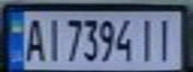3: (78, 16, 100, 62)
4: (115, 16, 139, 63)
7: (60, 16, 84, 62)
9: (97, 16, 118, 63)
A: (21, 15, 45, 63)
I: (151, 15, 181, 63), (136, 16, 160, 63), (42, 15, 63, 62)
